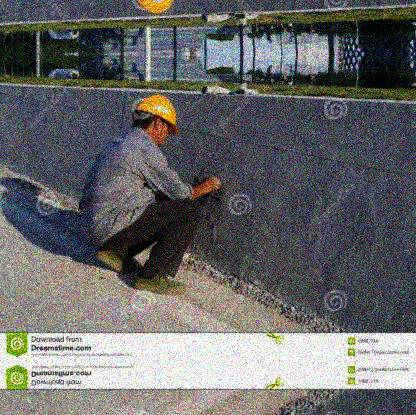helmet: (133, 95, 180, 151)
